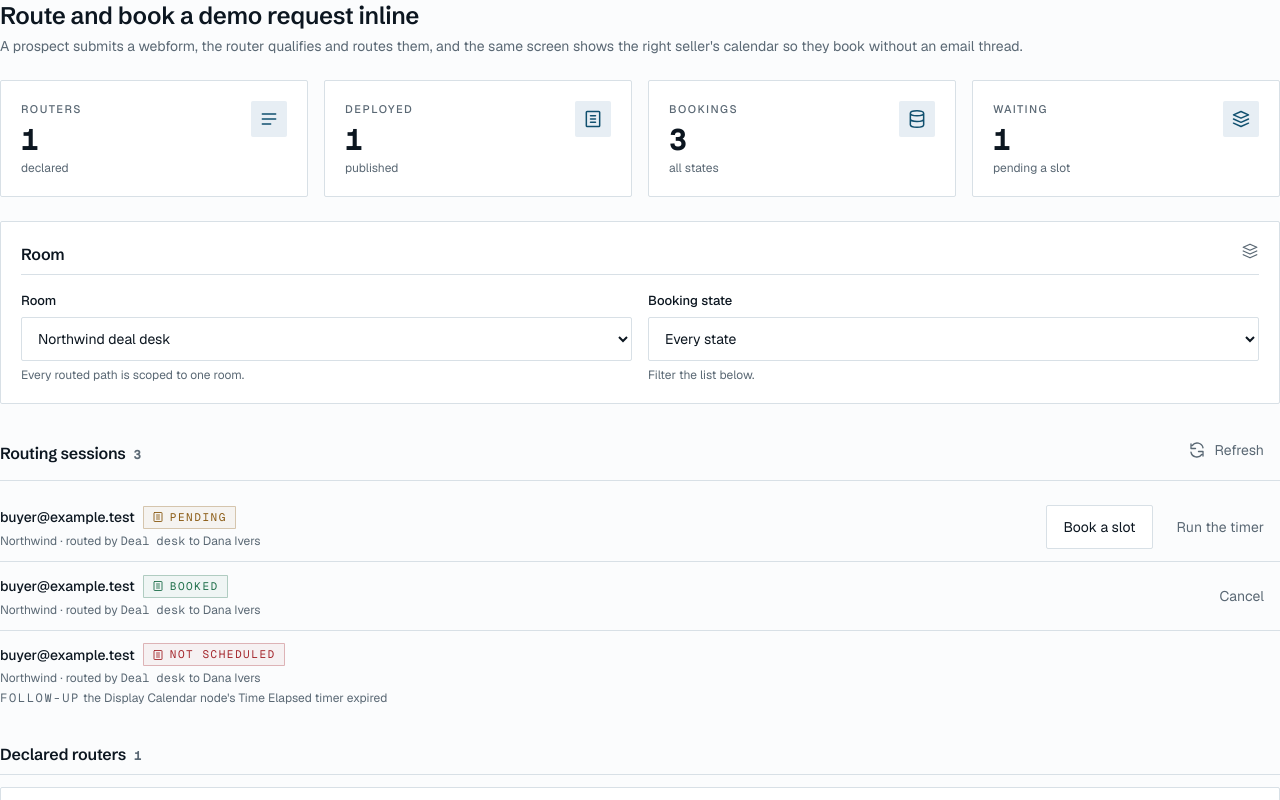
Test: booking a slot › shows the refusal when the commit is refused
Expected: the heading "Route and book a demo request inline" is shown, [0,1,419,30]
Click the button "Book a slot". click: click(1100, 527)
box: [1046,505,1153,549]
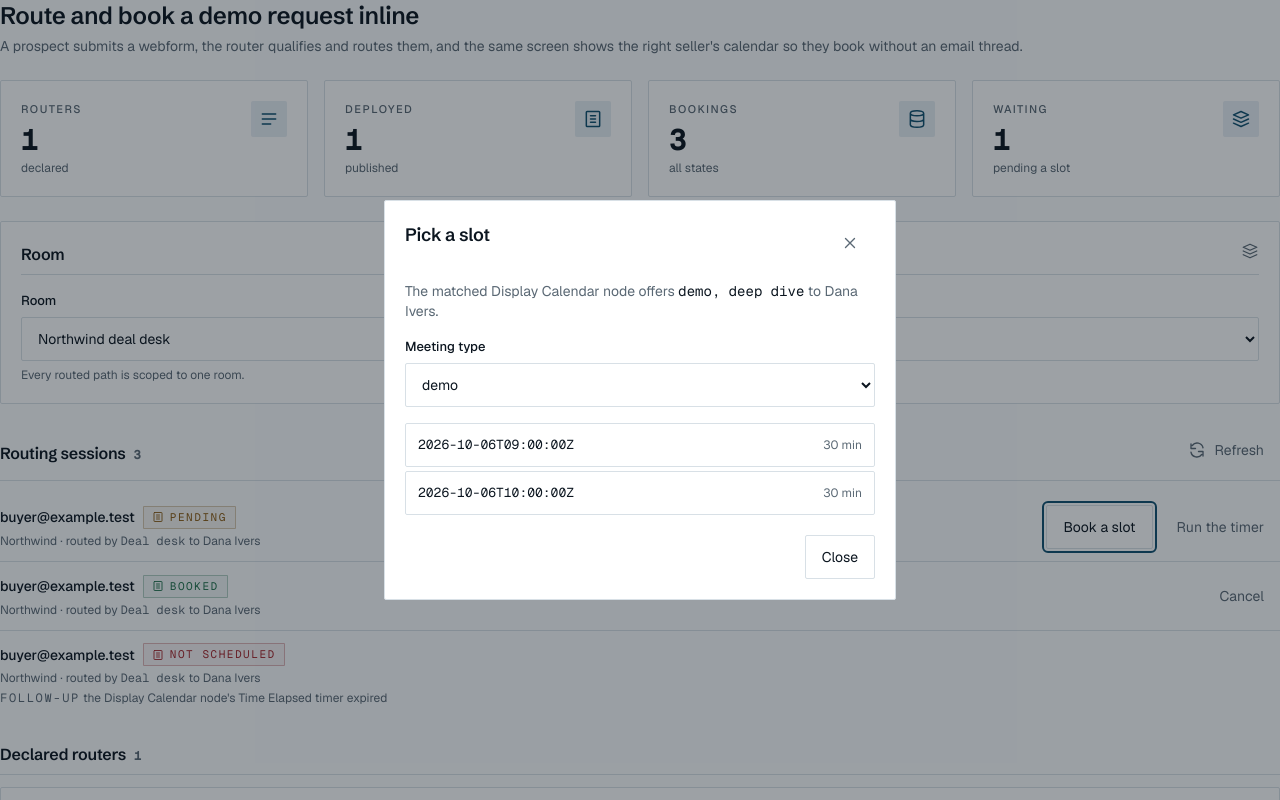
Click the button with aria-label "Book the slot starting 2026-10-06T09:00:00Z". click: click(496, 444)
box: [405,423,875,467]
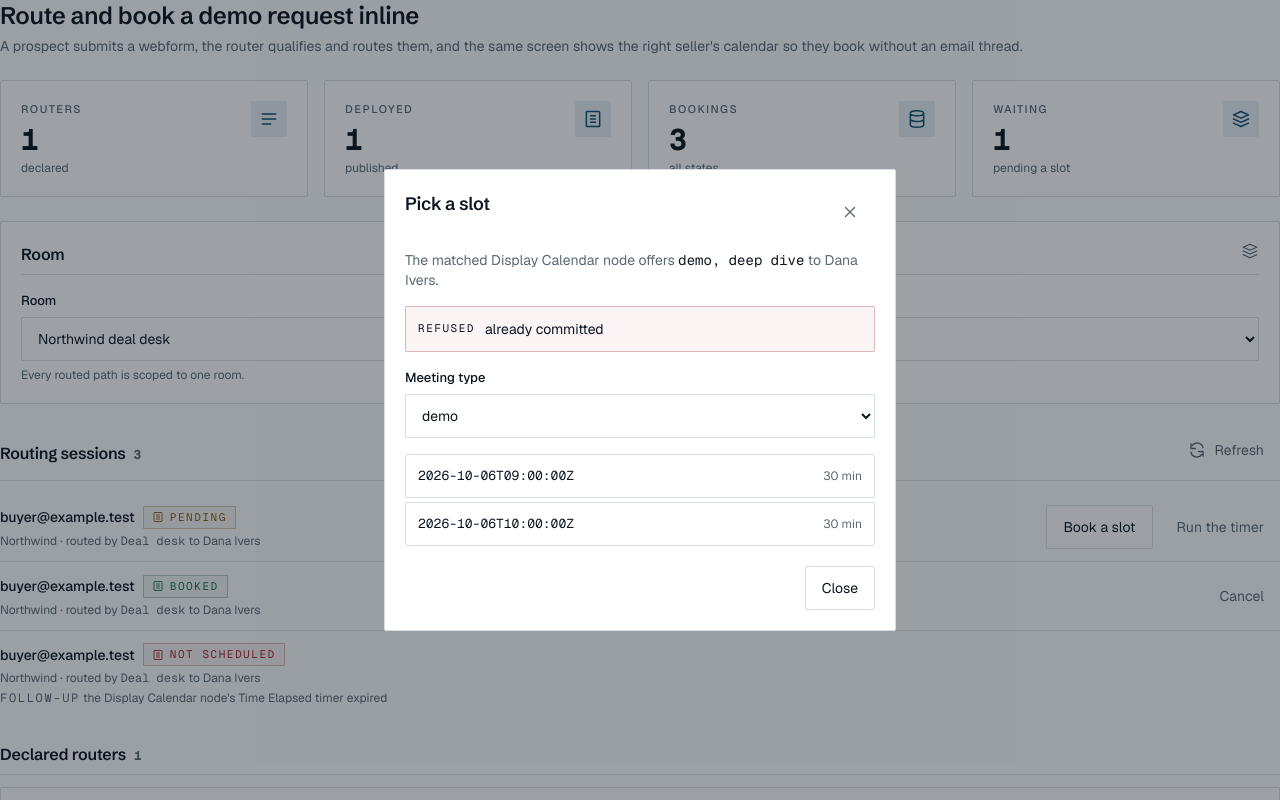
Result: the text "already committed" is shown at [485,320,604,338]
